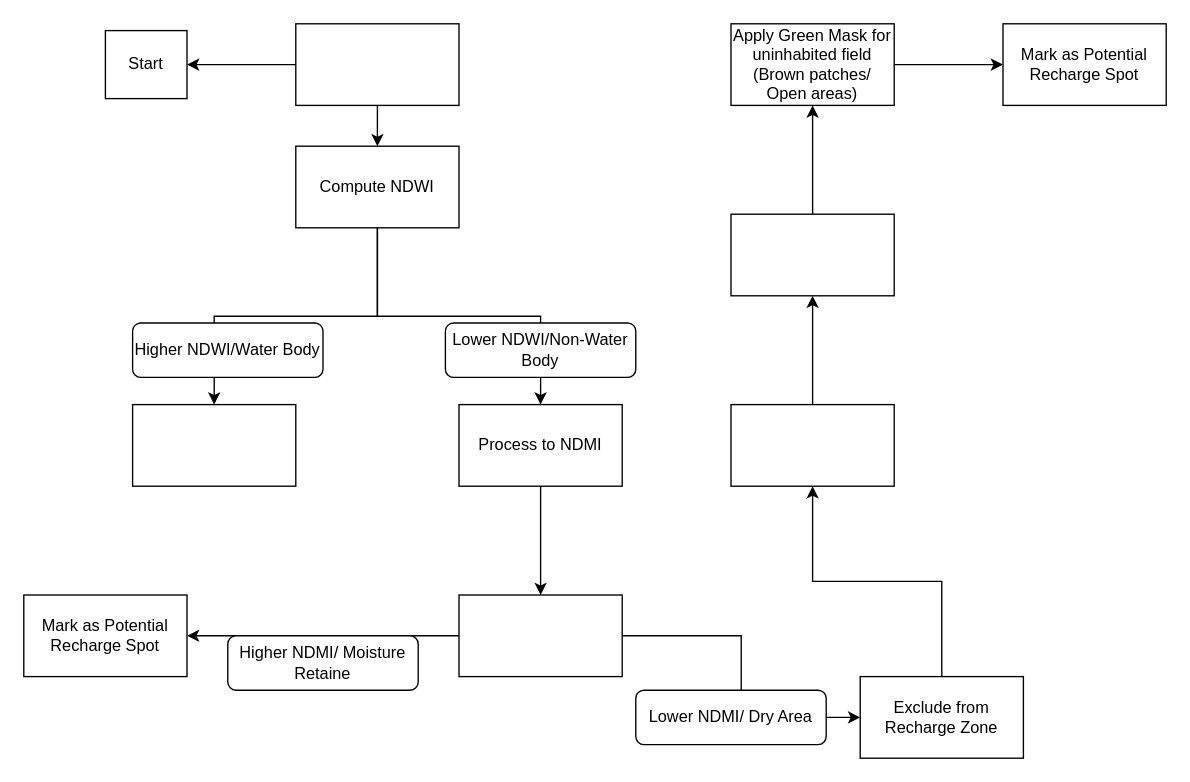
Image size: 1190x782. Some labels were removed from this diagram. The shapes that lost their labels are listed below. From the top down, each one's centre as x and y in pixels, then its label:
the point at 376,63: Extract RGB Channel from the Satellite Image
the point at 812,254: Exclude Beach and Urban Areas
the point at 213,444: Mark as Water
the point at 812,444: Remove Small Patches using Morphological Ops
the point at 540,635: Compute NDMI
